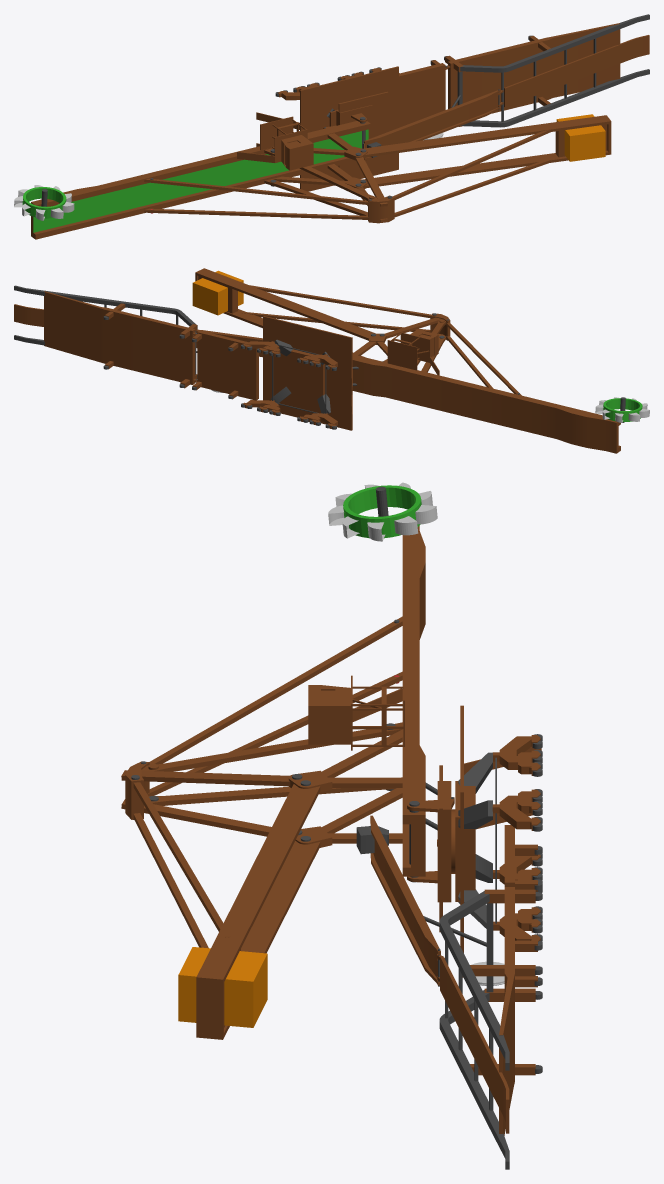
File: syg06.fbx
The picture shows the model from 3 angles, top to bottom: view 1: azimuth 30°, elevation 25°; view 2: azimuth 150°, elevation 25°; view 3: azimuth 270°, elevation 25°; orthographic projection. The views are drawn at different scales.
Visible parts, largest first — view 1: zhijia, budong2, budong1, xuanzhuan2, budong1_1, doulun; view 2: zhijia, budong2, budong1, doulun, xuanzhuan2; view 3: zhijia, budong2, budong1, doulun, xuanzhuan2, budong1_1.
Part boxes in pixels (x1,y1,x2,y2): zhijia: [31, 114, 611, 239]; budong2: [399, 14, 649, 140]; budong1: [256, 66, 398, 191]; xuanzhuan2: [362, 89, 500, 160]; budong1_1: [323, 91, 388, 171]; doulun: [14, 185, 74, 220]; zhijia: [192, 268, 620, 453]; budong2: [14, 285, 258, 400]; budong1: [241, 316, 352, 430]; doulun: [595, 397, 649, 422]; xuanzhuan2: [196, 329, 262, 357]; zhijia: [121, 526, 425, 1039]; budong2: [423, 825, 542, 1169]; budong1: [455, 705, 542, 977]; doulun: [328, 482, 437, 541]; xuanzhuan2: [356, 815, 440, 986]; budong1_1: [407, 765, 455, 932].
Size of the model in its own units: 813 by 120 by 247.
